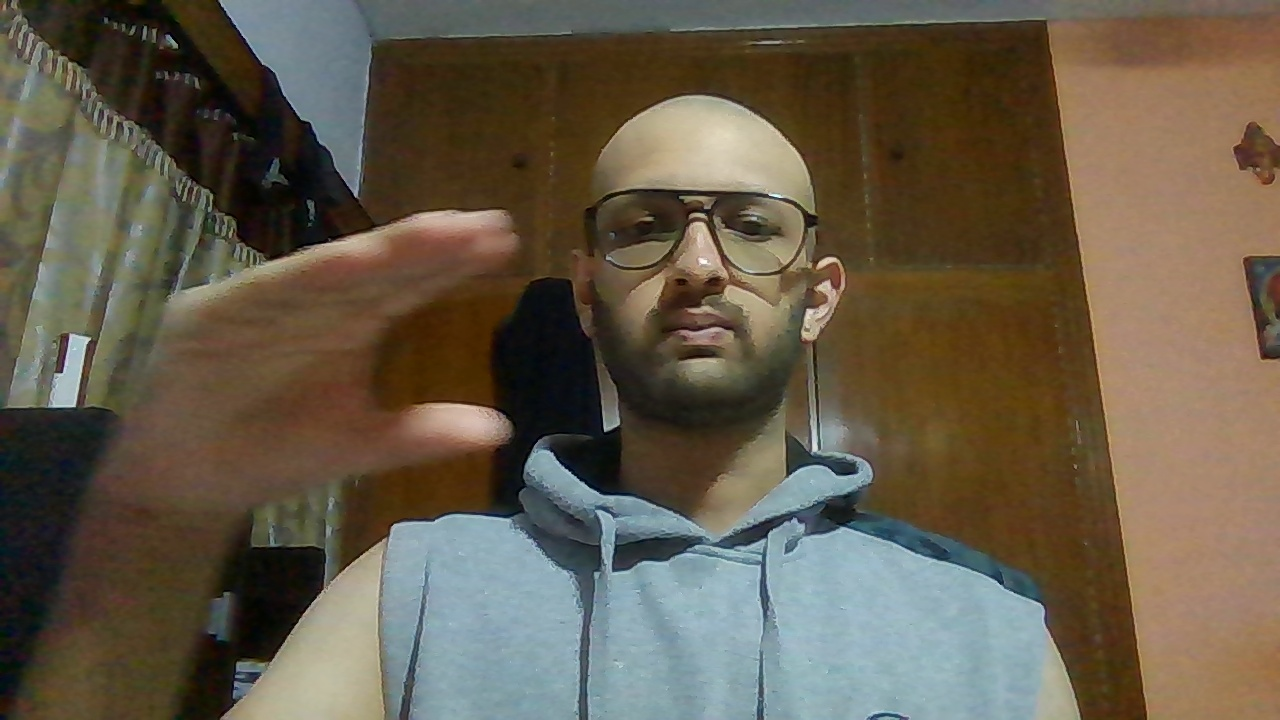No: (104, 207, 522, 479)
